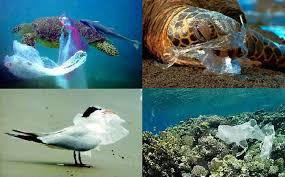Plastic: (216, 122, 277, 163)
